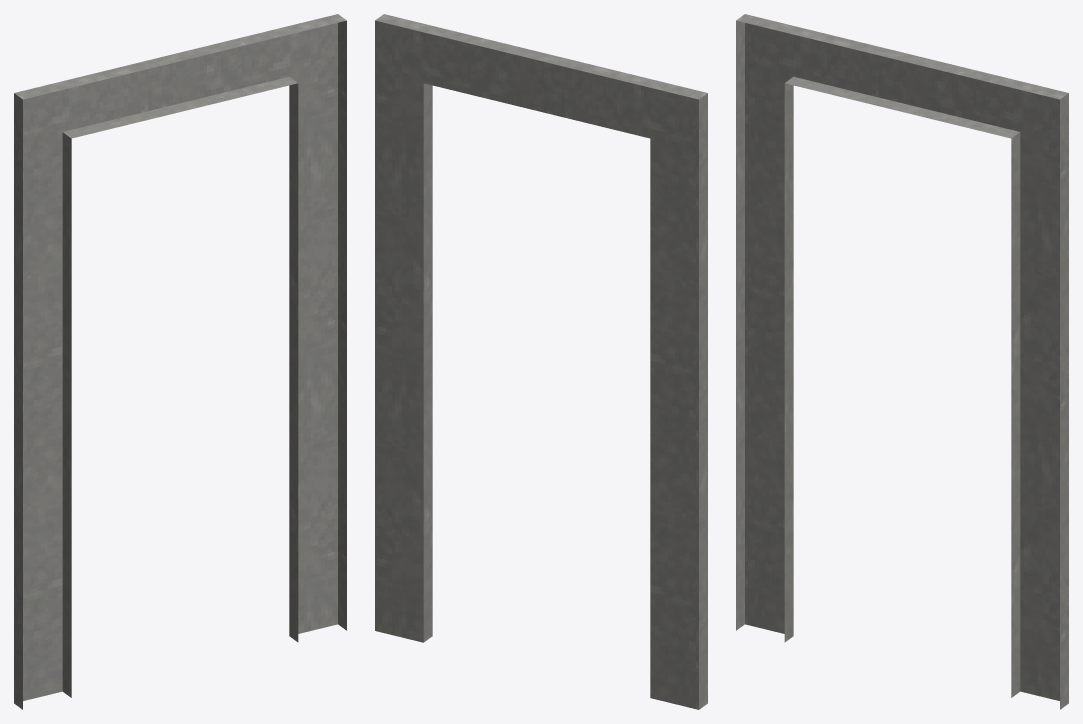
Rendered from GJ_Wall_Trim_02.fbx.
3 views of the same model, side by side, from view 1: azimuth 30°, elevation 25°; view 2: azimuth 150°, elevation 25°; view 3: azimuth 330°, elevation 25° (orthographic).
Parts seen in each view (by area): view 1: GJ_Wall_Trim_02; view 2: GJ_Wall_Trim_02; view 3: GJ_Wall_Trim_02.
Part boxes in pixels (x1,y1,x2,y2): GJ_Wall_Trim_02: (14, 14, 346, 709); GJ_Wall_Trim_02: (375, 14, 707, 709); GJ_Wall_Trim_02: (736, 14, 1068, 709).
Bounding box in the file's own units: 125 × 225 × 5.98.
